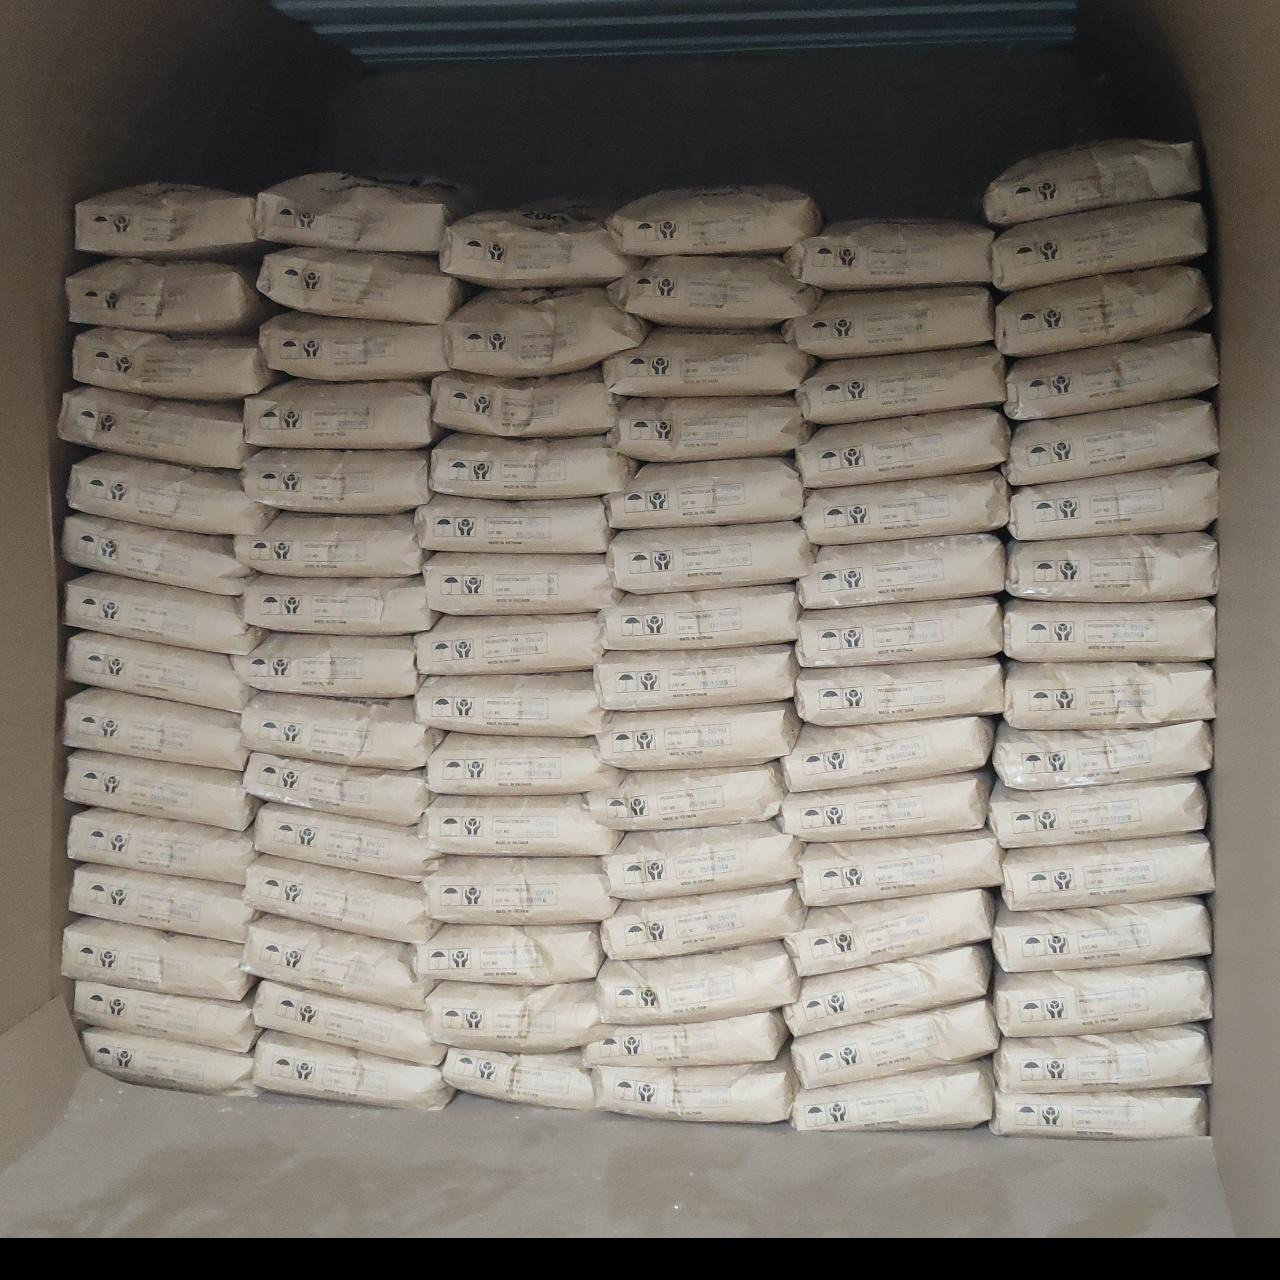sack: (992, 199, 1207, 291), (996, 266, 1210, 356), (983, 139, 1201, 226), (1006, 331, 1217, 420), (784, 946, 990, 1036), (792, 999, 998, 1088), (785, 888, 993, 976), (1006, 399, 1216, 485), (445, 288, 648, 377), (244, 915, 433, 1009), (256, 172, 472, 253), (440, 200, 641, 287), (67, 452, 274, 535), (595, 941, 798, 1024), (797, 409, 1009, 488), (244, 856, 438, 941), (995, 960, 1211, 1036), (796, 346, 1005, 424), (1008, 462, 1217, 540), (64, 572, 264, 654), (993, 897, 1210, 972), (781, 716, 994, 792), (57, 386, 254, 468), (254, 980, 445, 1064), (1002, 833, 1213, 910), (61, 917, 253, 1000), (63, 513, 253, 595), (992, 720, 1212, 790), (257, 247, 459, 324), (64, 749, 257, 829), (783, 286, 993, 359), (797, 832, 1003, 906), (241, 692, 444, 767), (66, 631, 253, 712), (67, 258, 272, 332), (797, 535, 1002, 608), (601, 885, 803, 960), (64, 688, 248, 770), (254, 1032, 452, 1108), (602, 823, 801, 899), (607, 185, 822, 256), (777, 771, 992, 842), (801, 471, 1008, 544), (989, 778, 1207, 847), (610, 257, 822, 327), (602, 327, 813, 397), (254, 803, 442, 881), (995, 1024, 1211, 1092), (69, 863, 256, 941), (606, 522, 813, 592), (73, 327, 275, 399), (796, 597, 1001, 667), (1005, 532, 1217, 600), (67, 808, 256, 884), (1005, 661, 1214, 729), (75, 182, 261, 258), (795, 658, 1002, 726), (791, 1060, 992, 1130), (787, 222, 993, 290), (606, 457, 802, 527), (431, 434, 636, 499), (595, 703, 799, 769), (244, 753, 430, 824), (1005, 599, 1214, 662), (595, 645, 796, 710), (245, 380, 435, 448), (259, 309, 449, 377), (424, 981, 610, 1050), (423, 857, 618, 922), (585, 765, 783, 830), (433, 368, 615, 437), (592, 1058, 795, 1121), (75, 982, 257, 1051), (602, 586, 798, 649), (611, 399, 810, 461), (232, 633, 421, 697), (415, 672, 604, 736), (234, 512, 424, 576), (424, 553, 621, 614), (241, 449, 430, 512), (420, 795, 619, 855), (240, 576, 438, 635), (428, 733, 621, 794), (414, 495, 611, 553), (415, 614, 602, 674), (414, 924, 601, 983), (81, 1029, 254, 1092), (990, 1088, 1207, 1138), (584, 1012, 784, 1065), (442, 1048, 594, 1107)
